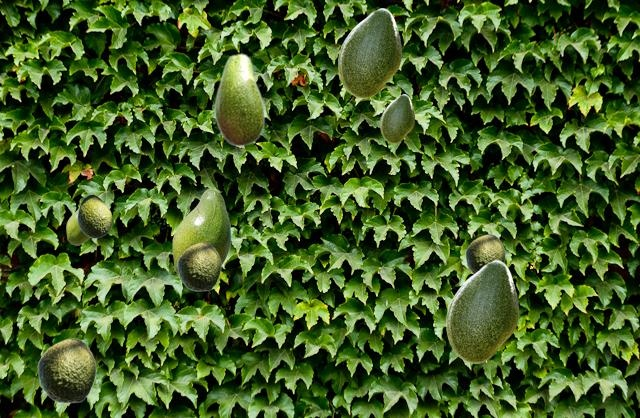avocado: (446, 260, 517, 362), (338, 8, 400, 97), (172, 188, 230, 275), (214, 52, 264, 146), (37, 338, 95, 402), (177, 242, 220, 290), (380, 94, 413, 142), (465, 234, 504, 274), (77, 194, 111, 237), (66, 207, 89, 244)
